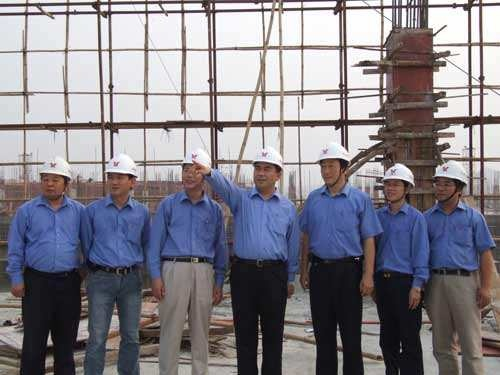white: (430, 159, 468, 208), (36, 155, 70, 202), (104, 153, 139, 198), (251, 147, 284, 191), (317, 141, 349, 186), (379, 162, 413, 203), (178, 149, 211, 191)
